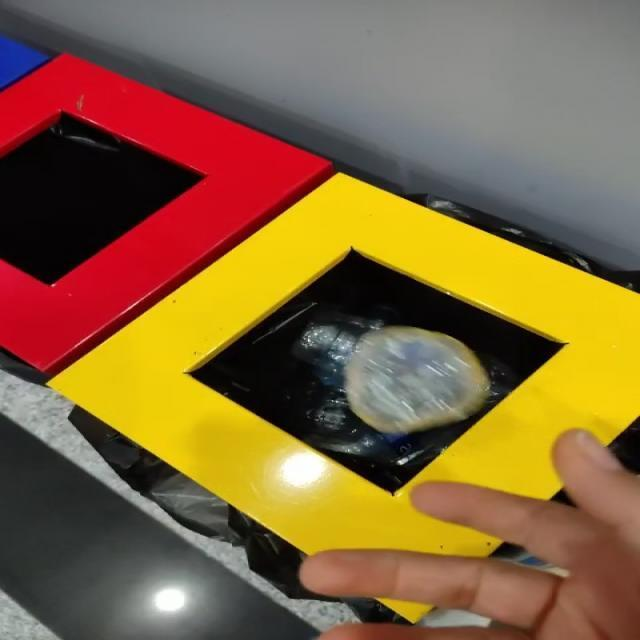Plastic: (345, 326, 491, 435)
